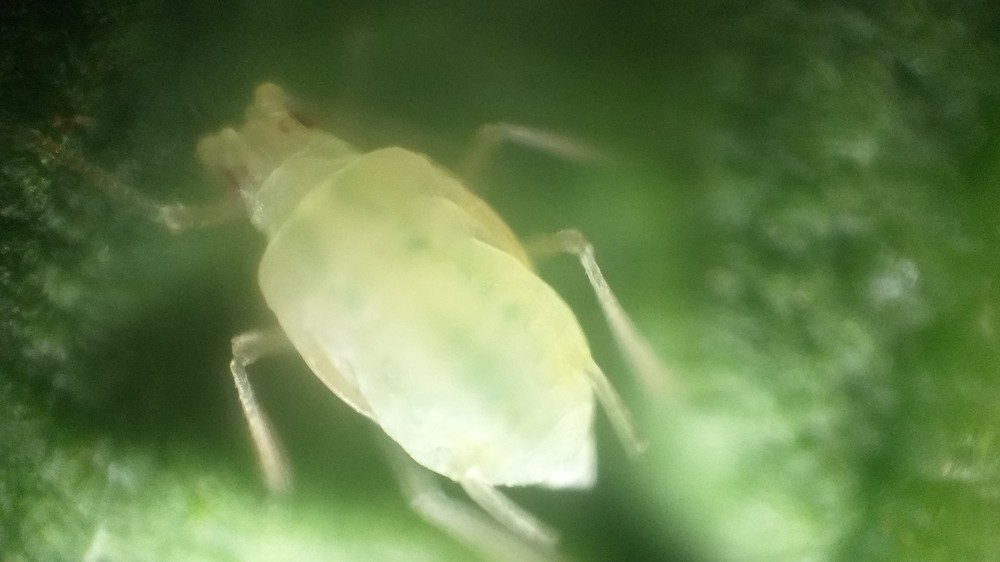Pulgon: (97, 25, 742, 554)
